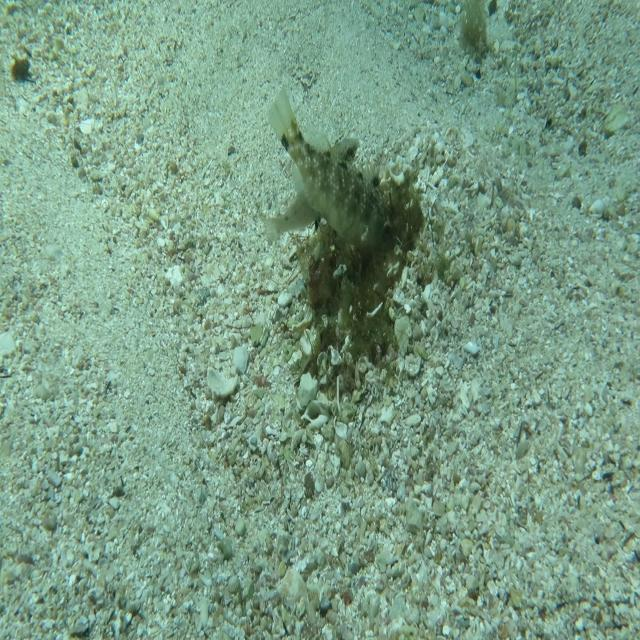NIP_CORE: (266, 85, 398, 254)
core_nest: (369, 206, 411, 250)
female: (257, 136, 360, 250)
nest: (296, 155, 449, 411)
